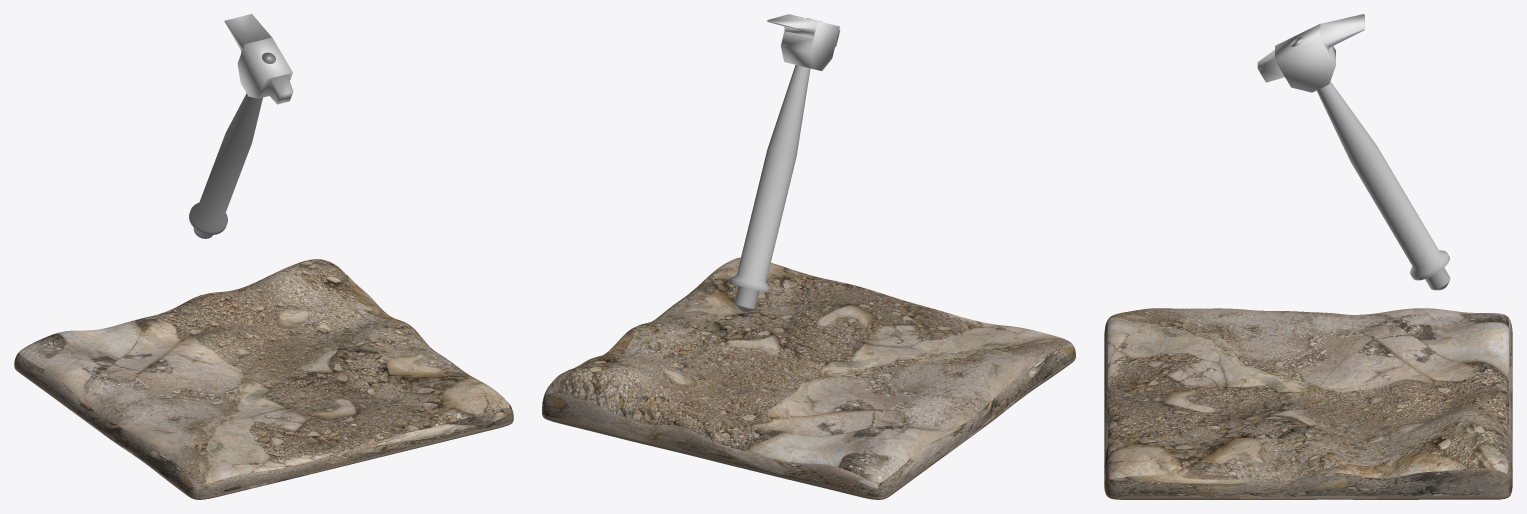
The model's file is hammerAnimated.gltf.
3 views of the same model, side by side, from view 1: azimuth 30°, elevation 25°; view 2: azimuth 150°, elevation 25°; view 3: azimuth 270°, elevation 25° (orthographic). The views are drawn at different scales.
Parts seen in each view (by area): view 1: Plane, Cylinder, Cube; view 2: Plane, Cylinder, Cube; view 3: Plane, Cylinder, Cube.
Boxes of the visible parts, <box> form: Plane: <box>14,259,513,499</box>; Cylinder: <box>189,52,275,238</box>; Cube: <box>224,14,293,104</box>; Plane: <box>542,257,1075,499</box>; Cylinder: <box>729,18,821,313</box>; Cube: <box>767,14,840,70</box>; Plane: <box>1104,308,1512,499</box>; Cylinder: <box>1290,37,1450,290</box>; Cube: <box>1257,14,1364,92</box>.
Bounding box in the file's own units: 32.67 × 34.7 × 32.67.
